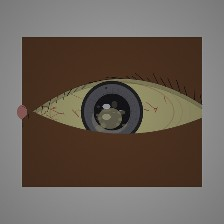corneal_ulcer: (91, 103, 129, 134)
